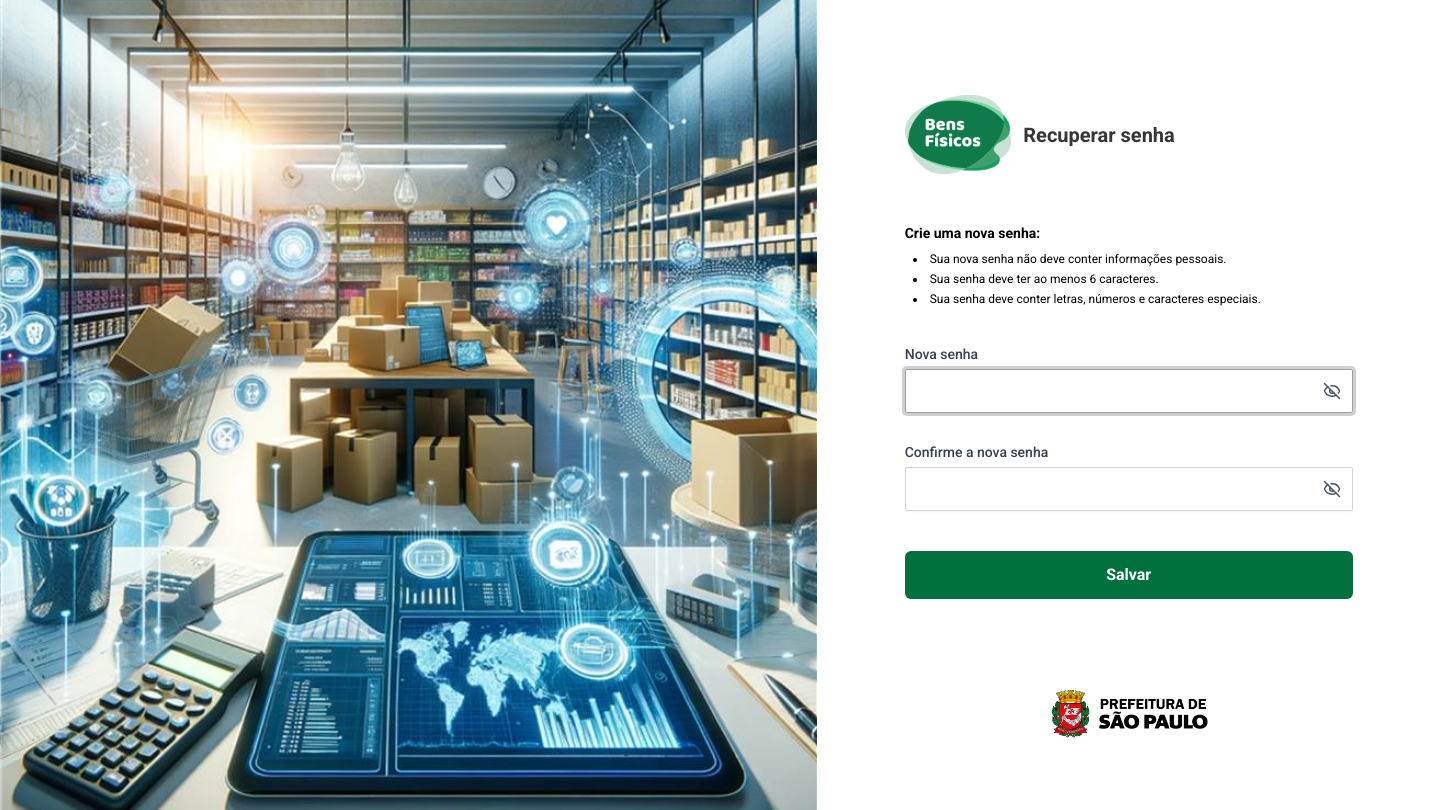
it: ResetPasswordPage › Validações › mostra erro quando senha não contém letras
Type "123456!@#" into the password field named "password" at (1129, 390), box [905,368,1353,412]
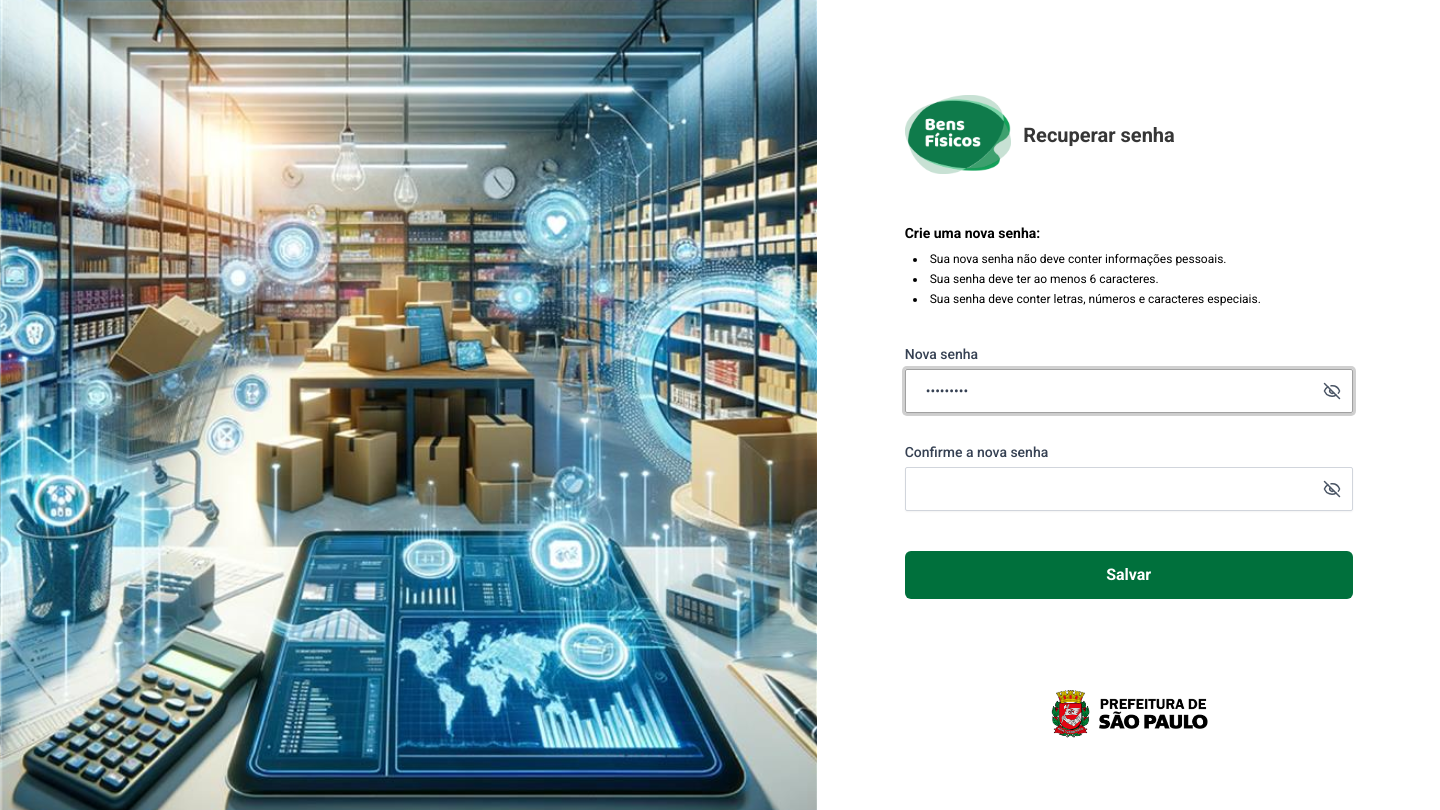
Type "123456!@#" into the password field named "confirmPassword" at (1129, 488), box [905,466,1353,510]
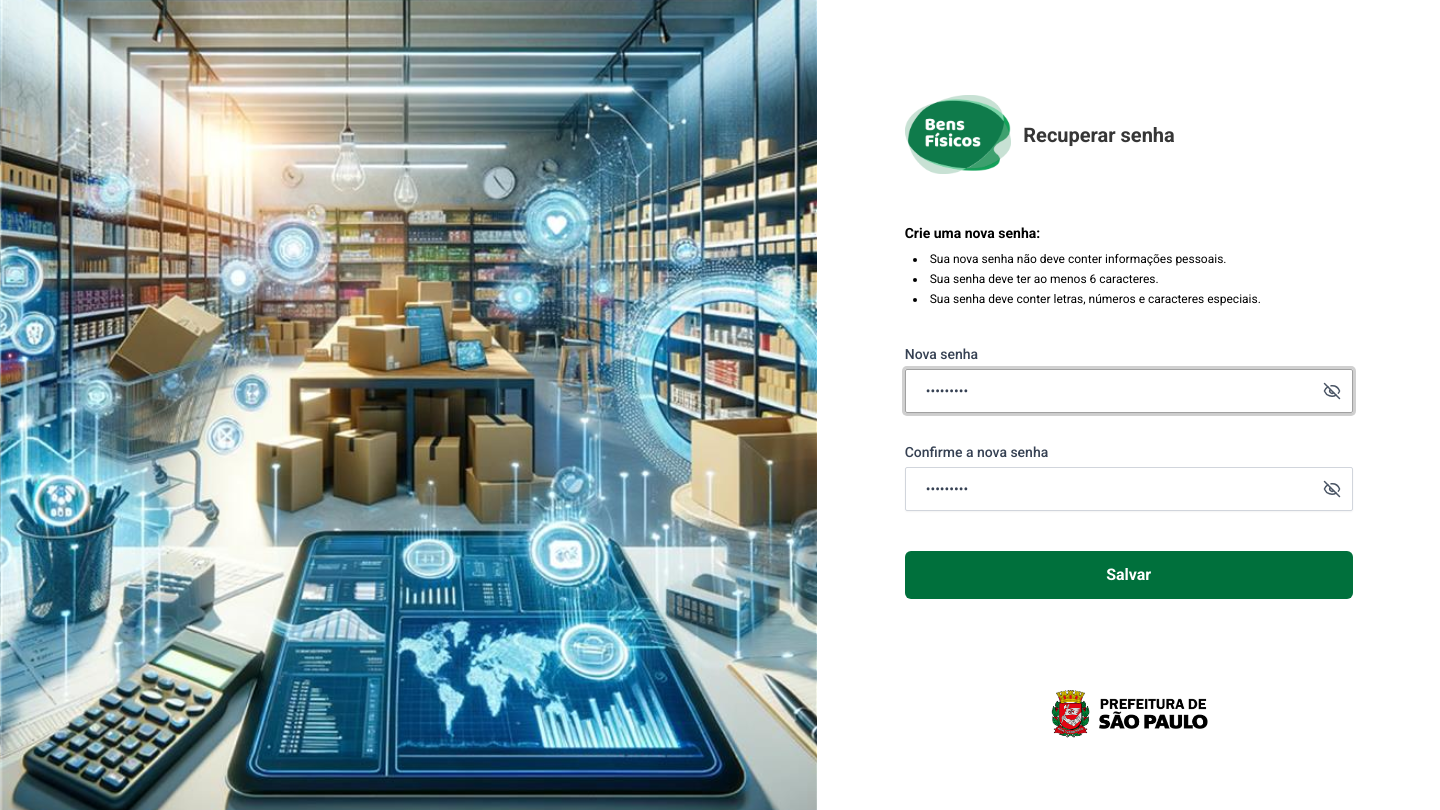
Click the button "Salvar" at (1129, 574), box [905,550,1353,598]
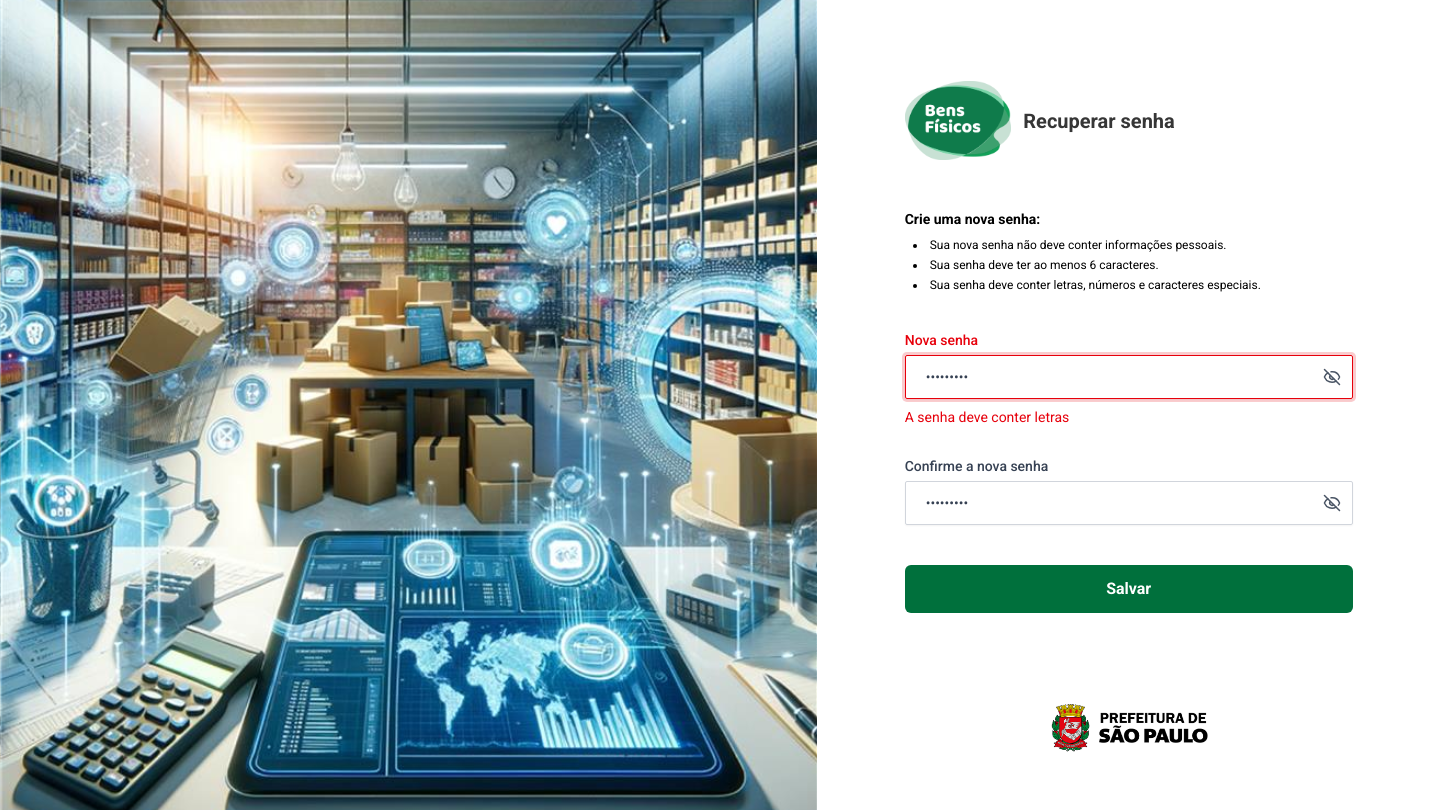
Expected: the text "A senha deve conter letras" is shown, [905,408,1069,424]
